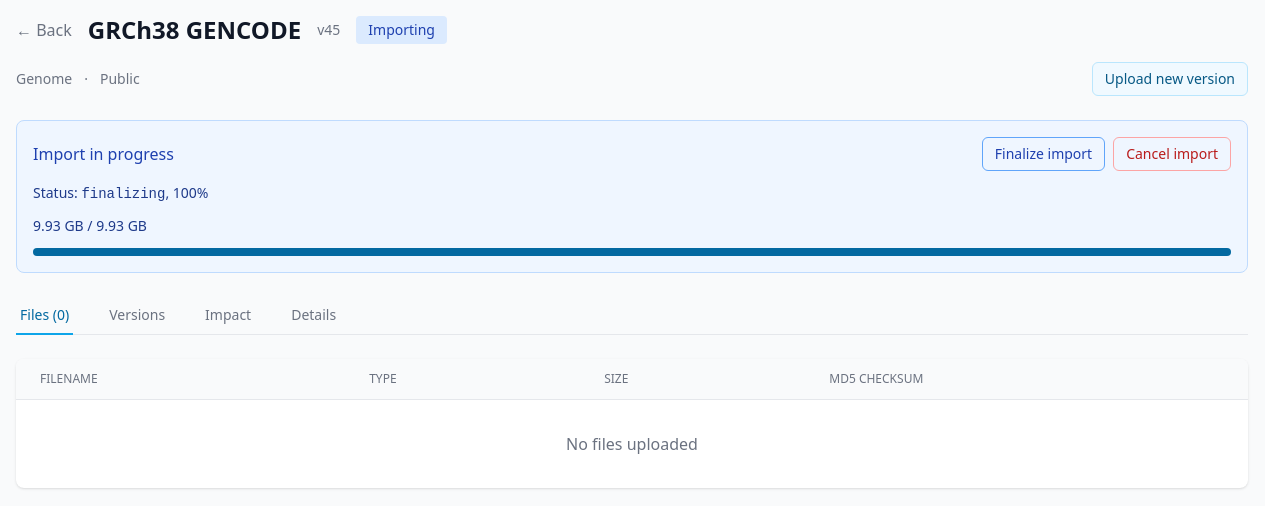
Reference Detail - in-flight URL import › Finalize button POSTs recover-finalize and reloads the reference
The width and height of the screenshot is (1265, 506).
Click the button "Finalize import". click: (1043, 154)
box: [982,137,1105,171]
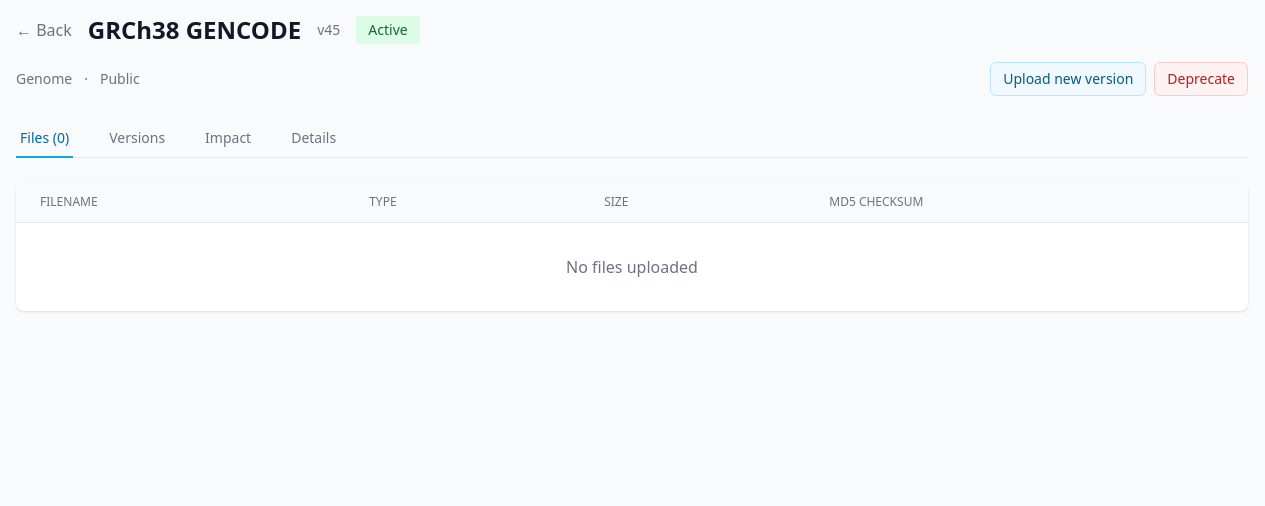
Check: the text "Import in progress" is gone
